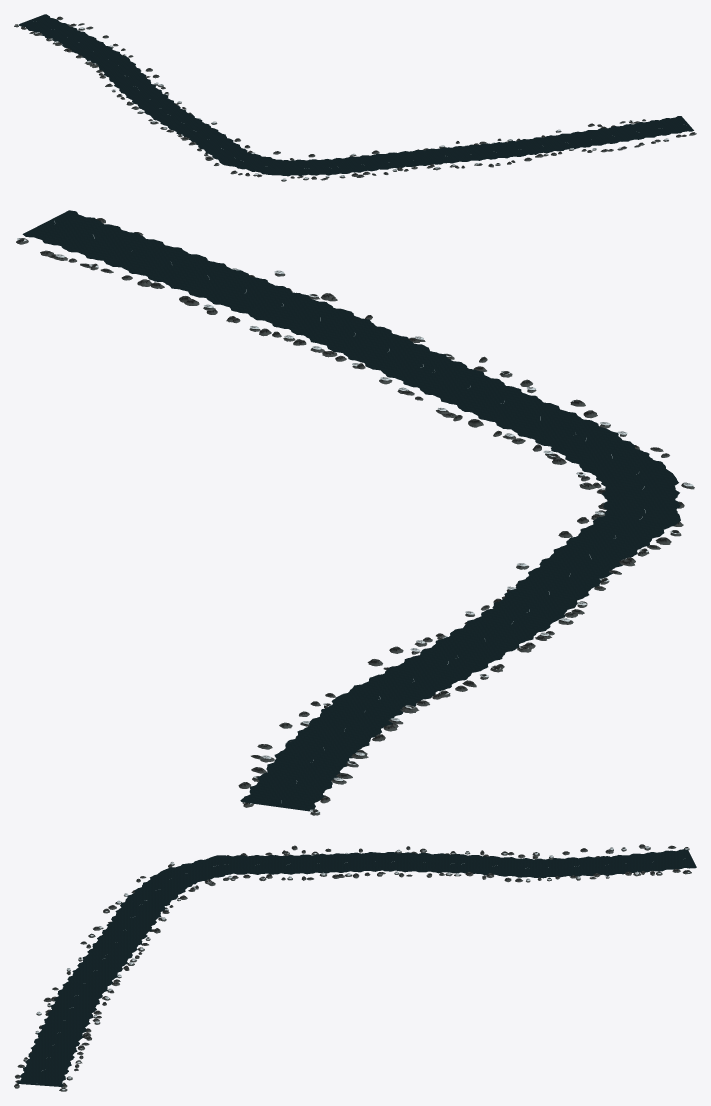
Rendered from river.glb.
The picture shows the model from 3 angles, top to bottom: view 1: azimuth 30°, elevation 25°; view 2: azimuth 150°, elevation 25°; view 3: azimuth 270°, elevation 25°; orthographic projection. The views are drawn at different scales.
Parts seen in each view (by area): view 1: ENV_R5_Water, ENV_R5_Rock, ENV_R5_Snow; view 2: ENV_R5_Water, ENV_R5_Rock, ENV_R5_Snow; view 3: ENV_R5_Water, ENV_R5_Rock, ENV_R5_Snow.
Part boxes in pixels (x1=…): ENV_R5_Water: x1=18, y1=14, x2=693, y2=176; ENV_R5_Rock: x1=14, y1=16, x2=696, y2=181; ENV_R5_Snow: x1=14, y1=24, x2=695, y2=180; ENV_R5_Water: x1=22, y1=210, x2=680, y2=811; ENV_R5_Rock: x1=16, y1=218, x2=694, y2=815; ENV_R5_Snow: x1=17, y1=238, x2=693, y2=812; ENV_R5_Water: x1=17, y1=849, x2=696, y2=1086; ENV_R5_Rock: x1=14, y1=844, x2=691, y2=1091; ENV_R5_Snow: x1=15, y1=846, x2=689, y2=1090.
Bounding box in the file's own units: 544 × 16.39 × 651.
4 materials, 3 textured.
